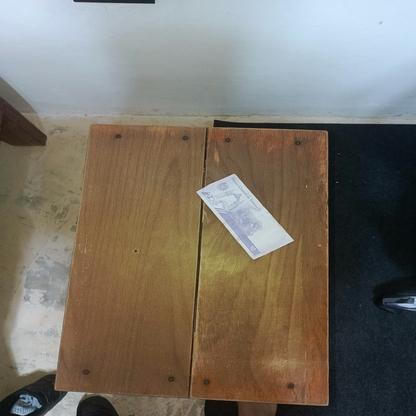ten-back-vef: (196, 174, 294, 262)
